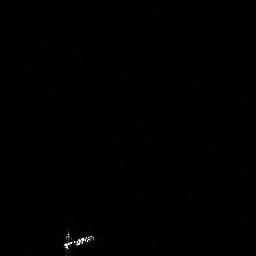ship: (59, 228, 98, 256)
